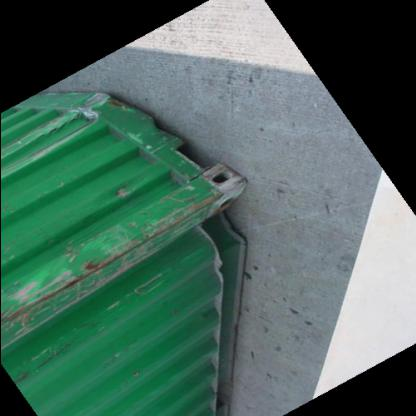Damage: (13, 211, 222, 320), (26, 97, 118, 139), (104, 179, 134, 200)
